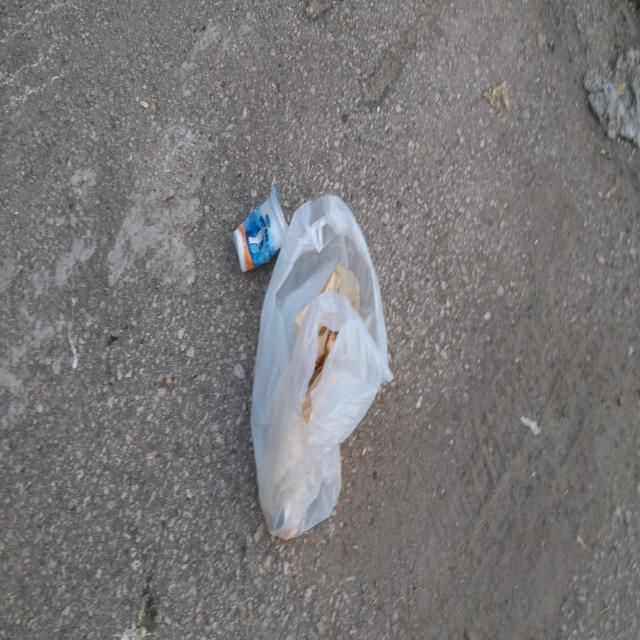litter: (250, 195, 395, 539), (232, 186, 288, 272)
